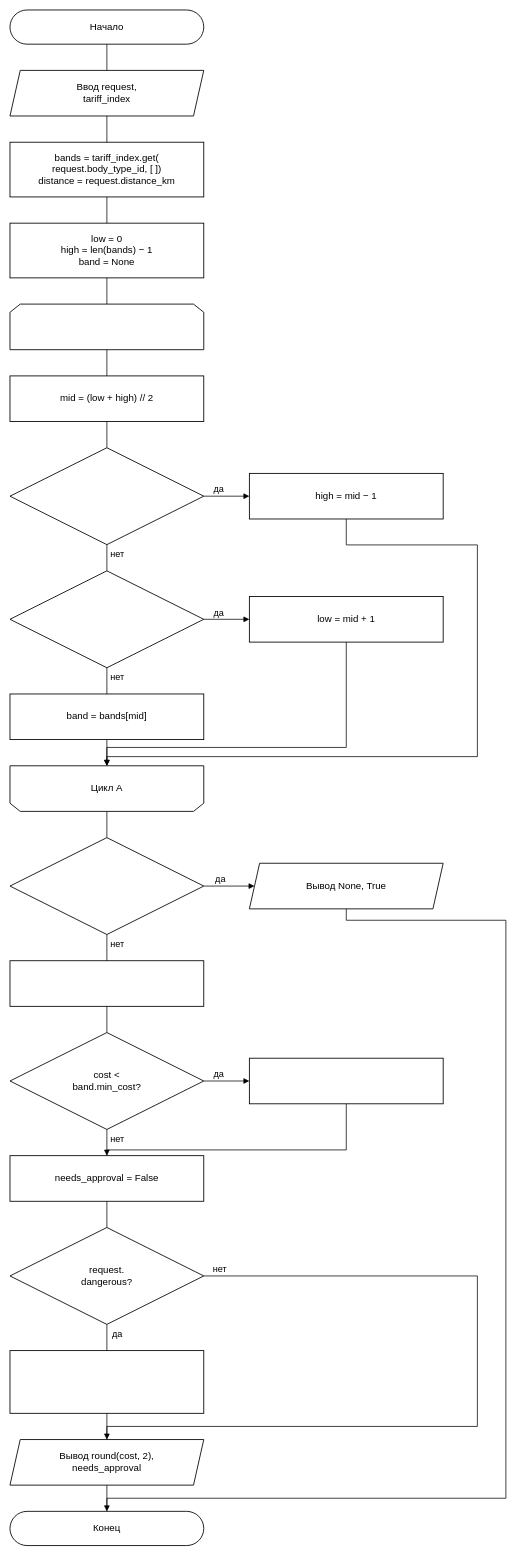
This 522x1556 diagram has some shape labels left out. The shapes that lost their labels are listed below. From the top down, each one's centre as x and y in pixels, then its label:
At point (106, 326): "Цикл А пока low ≤ high и band = None".
At point (106, 496): "distance < bands[mid]. dist_from_km?".
At point (106, 619): "distance ≥ bands[mid]. dist_to_km?".
At point (106, 886): "band = None?".
At point (106, 983): "cost = distance · band.rate_per_km".
At point (346, 1081): "cost = band.min_cost".
At point (106, 1381): "cost = cost · (1 + band.danger_surcharge_pct / 100) needs_approval = True".
